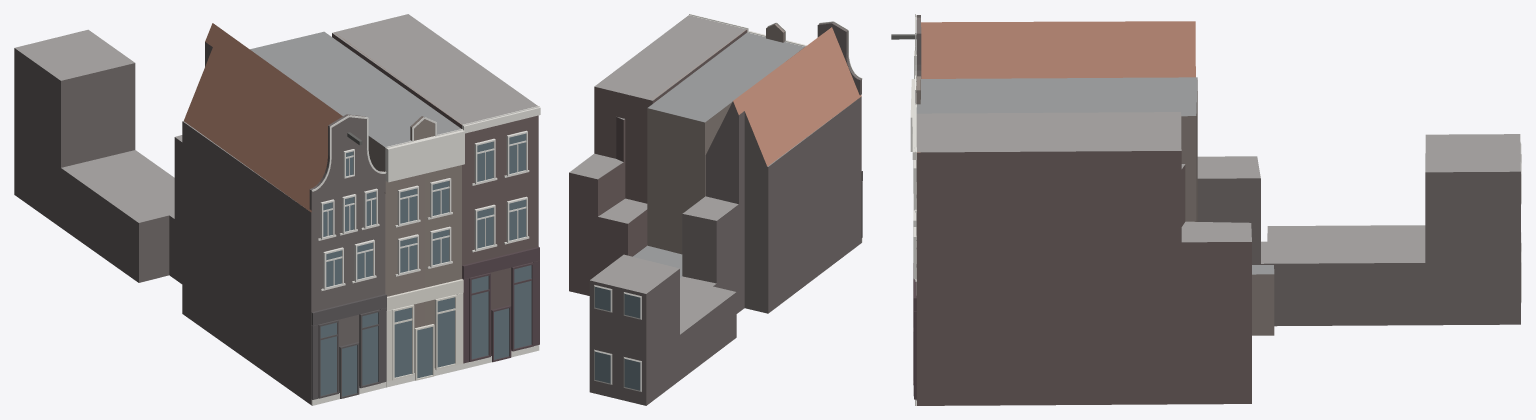
Rendered from chunk-face-haarlemmerdijk-2-58-r1.glb.
The picture shows the model from 3 angles, left to right: view 1: azimuth 30°, elevation 25°; view 2: azimuth 150°, elevation 25°; view 3: azimuth 270°, elevation 25°; orthographic projection. The views are drawn at different scales.
Parts seen in each view (by area): view 1: face-haarlemmerdijk-2-58-r1; view 2: face-haarlemmerdijk-2-58-r1; view 3: face-haarlemmerdijk-2-58-r1.
Boxes of the visible parts, x1=… form: face-haarlemmerdijk-2-58-r1: x1=14, y1=14, x2=540, y2=405; face-haarlemmerdijk-2-58-r1: x1=569, y1=14, x2=862, y2=405; face-haarlemmerdijk-2-58-r1: x1=891, y1=14, x2=1521, y2=405.
Bounding box in the file's own units: 11.91 × 13.66 × 26.66.
